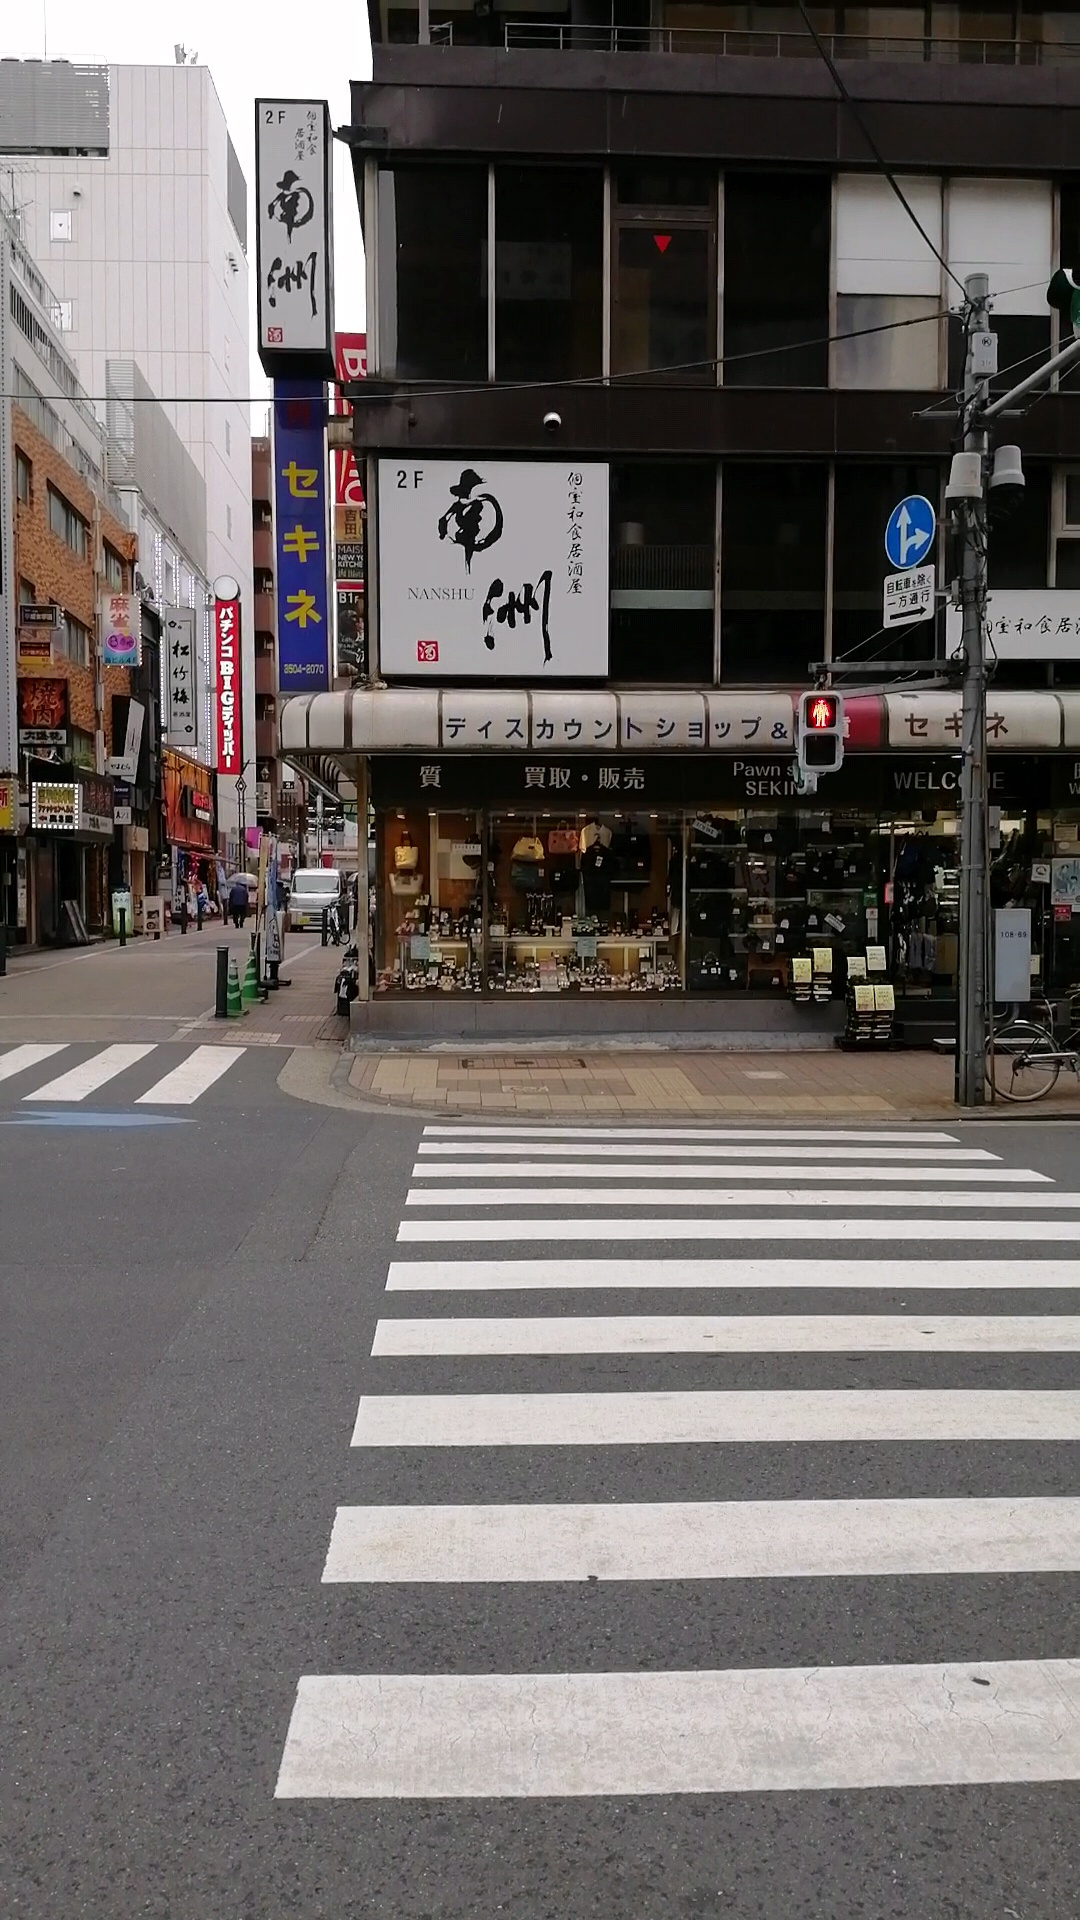red: (796, 688, 843, 771)
